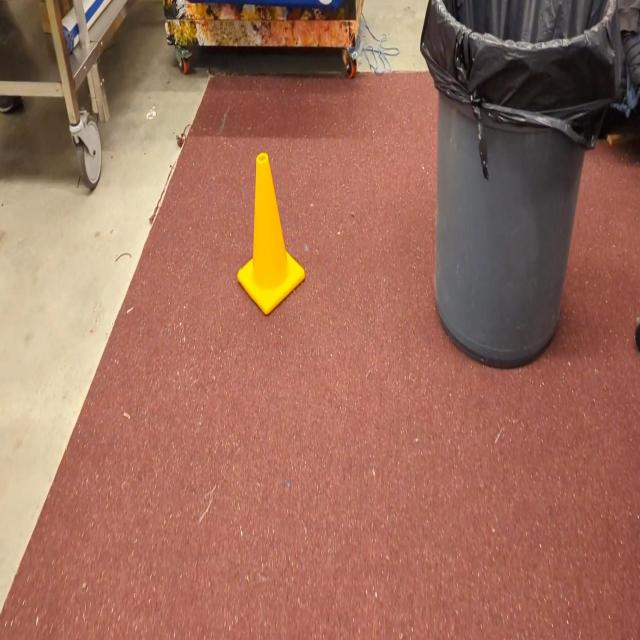frc_cone: (236, 151, 305, 317)
